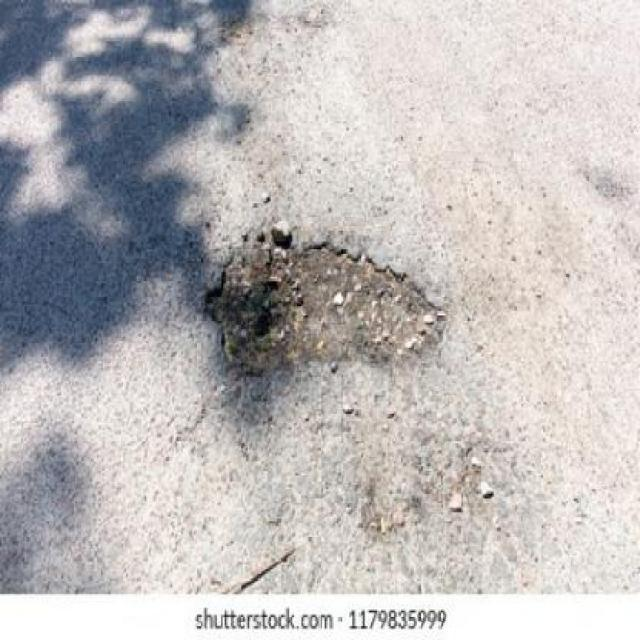Buraco: (197, 239, 450, 383)
